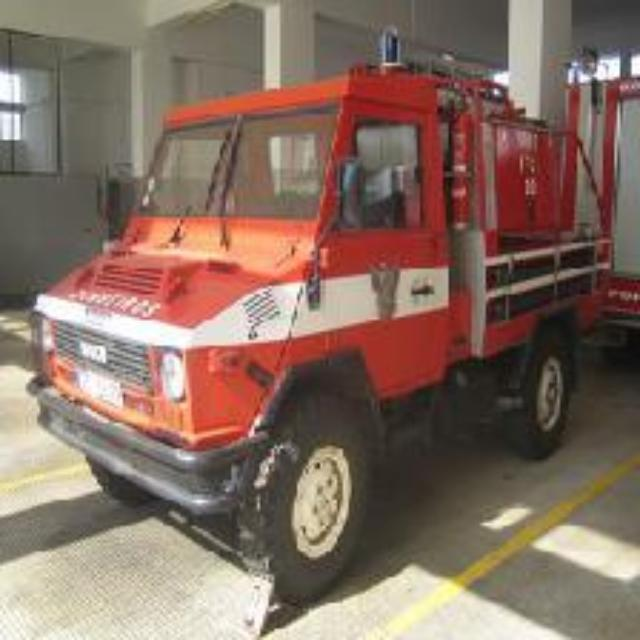emergency: (51, 60, 602, 534)
